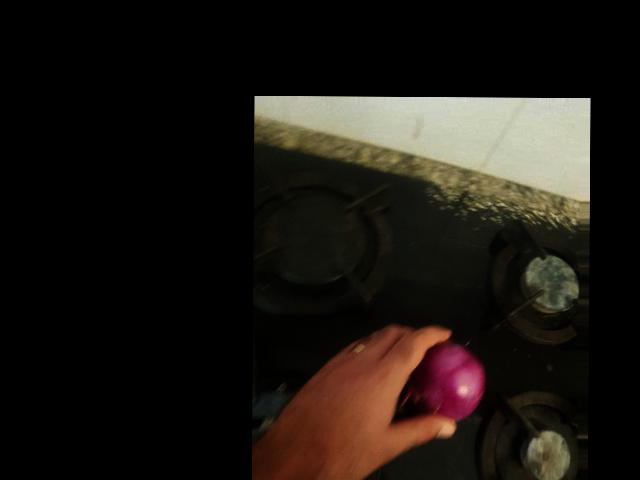onion: (401, 339, 485, 424)
